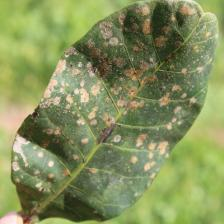red rust: (8, 0, 219, 223)
